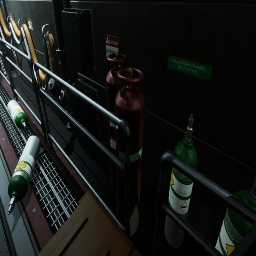0: (164, 114, 198, 248), (215, 176, 256, 256), (8, 135, 41, 215), (7, 100, 28, 130)
NitrogenTank ,: (115, 67, 145, 237), (106, 53, 129, 191)
